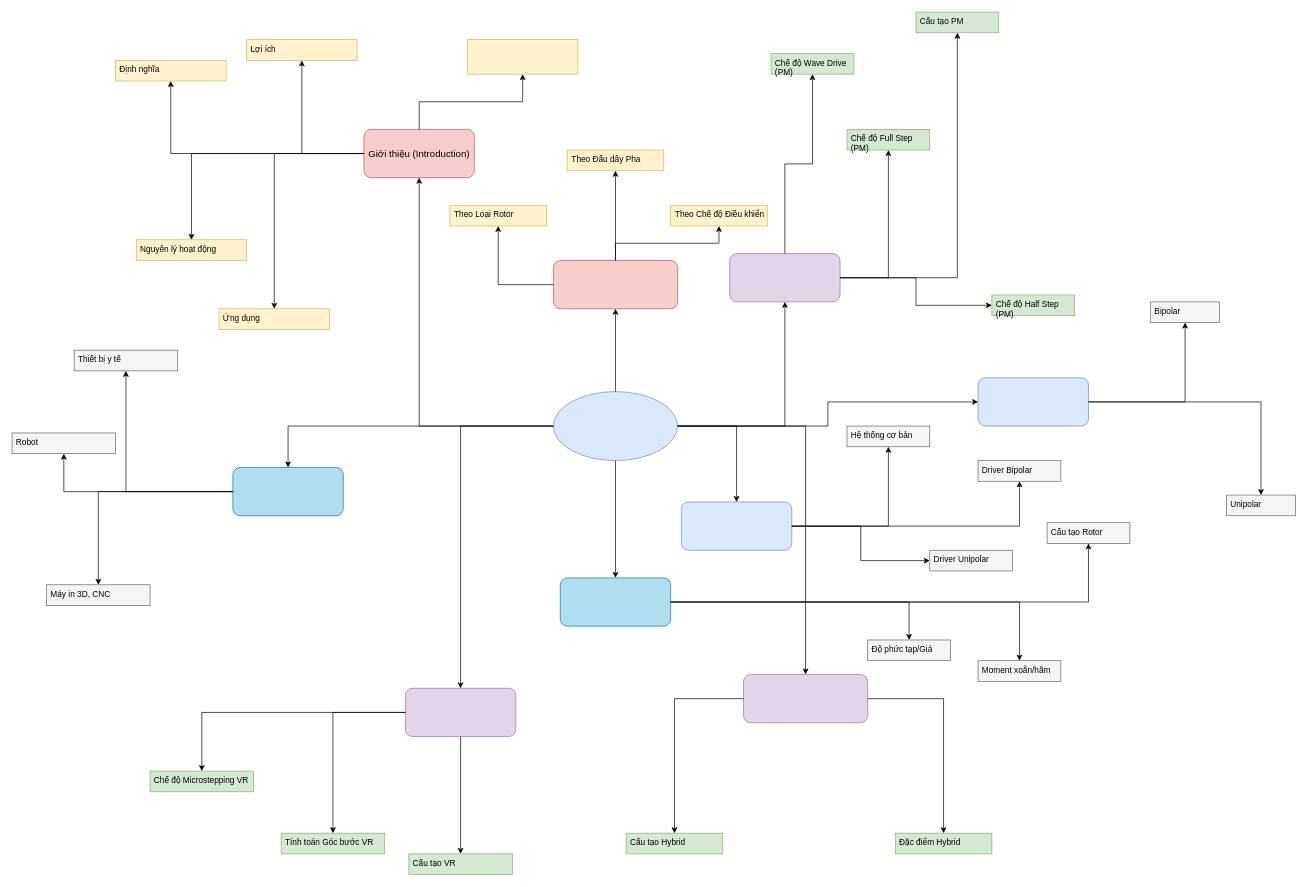
The diagram is 1308 pixels wide and 887 high, and some of its shapes have lost their labels. The shapes that lost their labels are listed below. From the top down, each one's centre as x and y in pixels, then its label:
(x=522, y=56): Quan hệ điều khiển (Chuỗi xung, Tần số, Số lượng)
(x=615, y=284): Phân loại (Classification)
(x=784, y=277): PM Stepper Motor
(x=1032, y=401): Đấu dây Pha (Phase Wiring)
(x=615, y=426): Động cơ Bước (Stepper Motors)
(x=287, y=491): Ứng dụng (Applications)
(x=736, y=525): Mạch Điều khiển (Driver Circuits)
(x=615, y=601): So sánh PM, VR, Hybrid
(x=460, y=712): VR Stepper Motor
(x=805, y=698): Hybrid Stepper Motor
